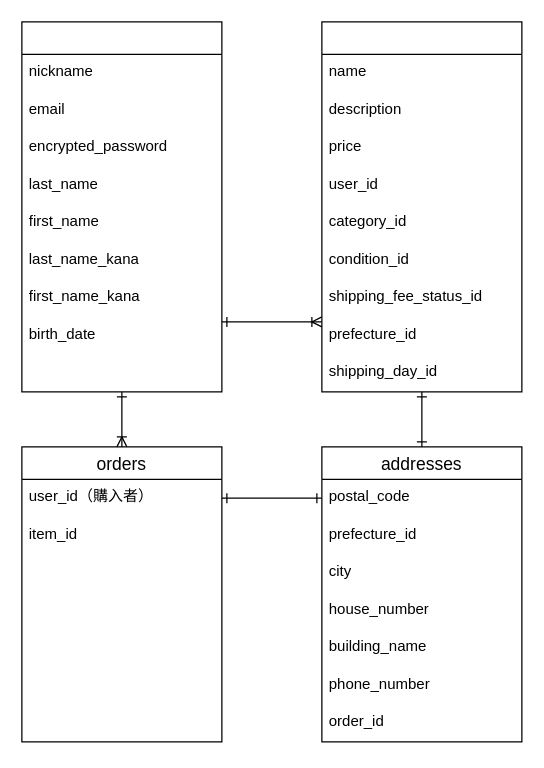
This 544x768 diagram has some shape labels left out. The box of each missing label's shape, as (x1, y1, x2, y2) in pixels:
items: (321, 21, 522, 392)
users: (21, 21, 222, 392)
